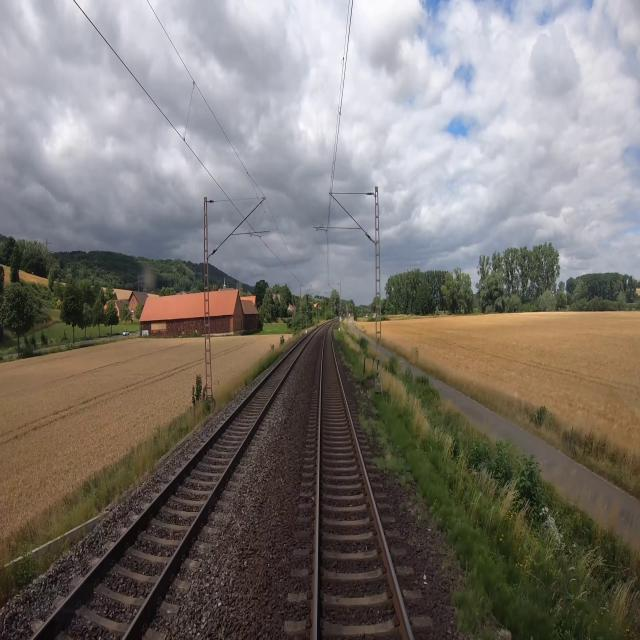Plant: (358, 407, 411, 482), (451, 577, 486, 638), (442, 557, 453, 574), (482, 626, 496, 639)
